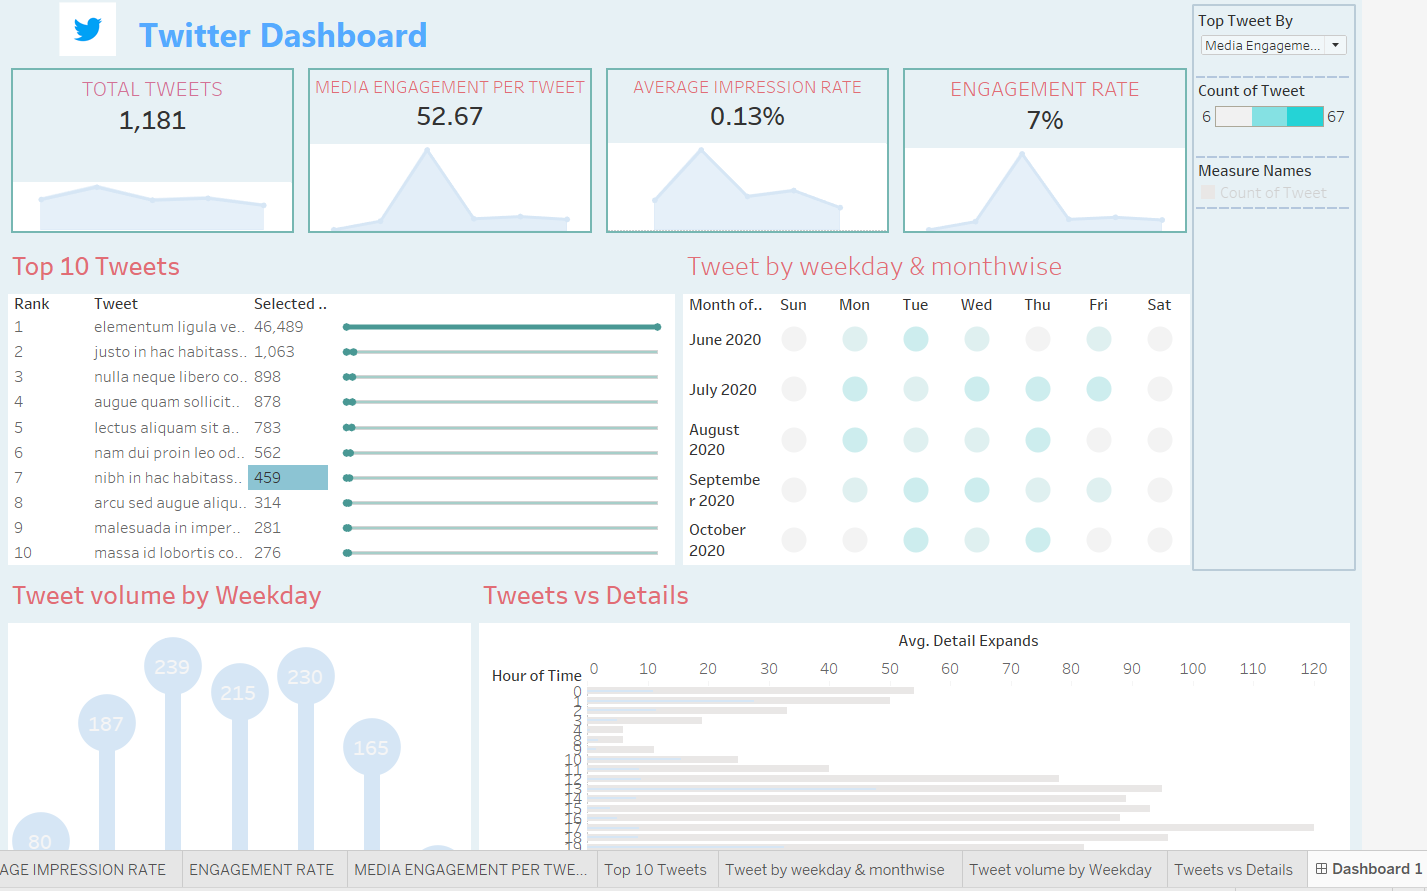

What the dashboard file says about the page in this screenshot:
{"tool":"tableau","page":{"name":"Dashboard 1","canvas":[1366,968],"ordinal":0},"visuals":[{"type":"image","param":"Image/twitter png.png","box":[21,4.1,141,53.9]},{"type":"text","box":[8,8,1190,54.7]},{"type":"parameter","param":"[Parameters].[Parameter 1]","box":[1198,8,160,188]},{"type":"worksheet","title":"TOTAL TWEETS","mark":"Automatic","rows":["Tweet","Tweet"],"cols":["time"],"box":[8,62.7,297.5,179.3]},{"type":"worksheet","title":"MEDIA ENGAGEMENT PER TWEET","mark":"Automatic","rows":["engagements","engagements"],"cols":["time"],"box":[305.5,62.7,297.5,179.3]},{"type":"worksheet","title":"AVERAGE IMPRESSION RATE","mark":"Area","rows":["impressions","impressions"],"cols":["time"],"box":[603,62.7,297.5,179.3]},{"type":"worksheet","title":"ENGAGEMENT RATE","mark":"Line","rows":["engagements","engagements"],"cols":["time"],"box":[900.5,62.7,297.5,179.3]},{"type":"legend","title":"Tweet by weekday & monthwise","param":"[federated.1cz9kx01lv8s7t1d6xks514rdsyd].[cnt:Tweet:qk]","box":[1198,196,160,188]},{"type":"worksheet","title":"Top 10 Tweets","mark":"Bar","rows":["Tweet","Calculation_765330463214030861"],"cols":["Calculation_765330463217877009"],"box":[8,242,656,329]},{"type":"worksheet","title":"Tweet by weekday & monthwise","mark":"Circle","rows":["time"],"cols":["time"],"box":[664,242,533.9,329]},{"type":"legend","title":"Tweets vs Details","param":"[federated.1cz9kx01lv8s7t1d6xks514rdsyd].[:Measure Names]","box":[1198,384,160,187]},{"type":"worksheet","title":"Tweet volume by Weekday","mark":"Bar","rows":["Tweet","Tweet"],"cols":["time"],"box":[8,571,471,389]},{"type":"worksheet","title":"Tweets vs Details","mark":"Bar","rows":["time"],"cols":["Tweet","detail expands"],"box":[479,571,879,389]}]}

Visuals, with their boxes on the page's 1366x968 design canvas (x1, y1, x2, y2). These are canvas units, not pixel positions in the 1427x891 screenshot, which may show the page scaled, cropped or inside an application window:
image: (x1=21, y1=4, x2=162, y2=58)
text: (x1=8, y1=8, x2=1198, y2=63)
parameter: (x1=1198, y1=8, x2=1358, y2=196)
"TOTAL TWEETS" worksheet: (x1=8, y1=63, x2=306, y2=242)
"MEDIA ENGAGEMENT PER TWEET" worksheet: (x1=306, y1=63, x2=603, y2=242)
"AVERAGE IMPRESSION RATE" worksheet (Area marks): (x1=603, y1=63, x2=900, y2=242)
"ENGAGEMENT RATE" worksheet (Line marks): (x1=900, y1=63, x2=1198, y2=242)
"Tweet by weekday & monthwise" legend: (x1=1198, y1=196, x2=1358, y2=384)
"Top 10 Tweets" worksheet (Bar marks): (x1=8, y1=242, x2=664, y2=571)
"Tweet by weekday & monthwise" worksheet (Circle marks): (x1=664, y1=242, x2=1198, y2=571)
"Tweets vs Details" legend: (x1=1198, y1=384, x2=1358, y2=571)
"Tweet volume by Weekday" worksheet (Bar marks): (x1=8, y1=571, x2=479, y2=960)
"Tweets vs Details" worksheet (Bar marks): (x1=479, y1=571, x2=1358, y2=960)
